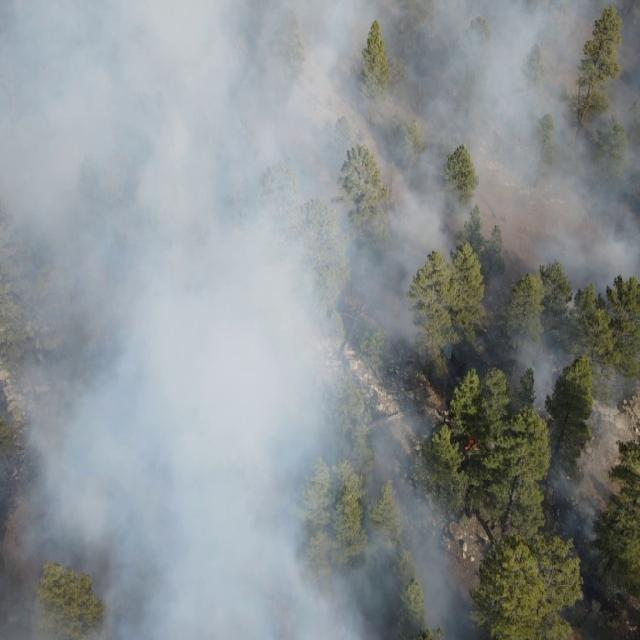fire: (463, 437, 485, 452)
smoke: (0, 0, 501, 560), (505, 5, 640, 315), (87, 564, 487, 640), (504, 318, 640, 538), (0, 565, 38, 640)
